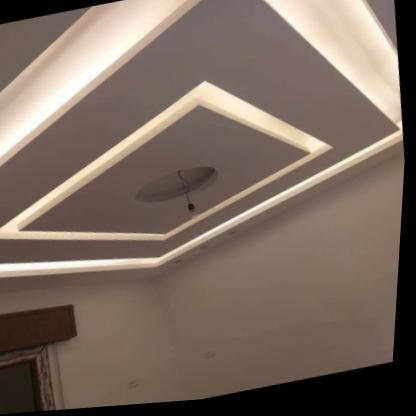Gypsum Board: (0, 0, 416, 316)
